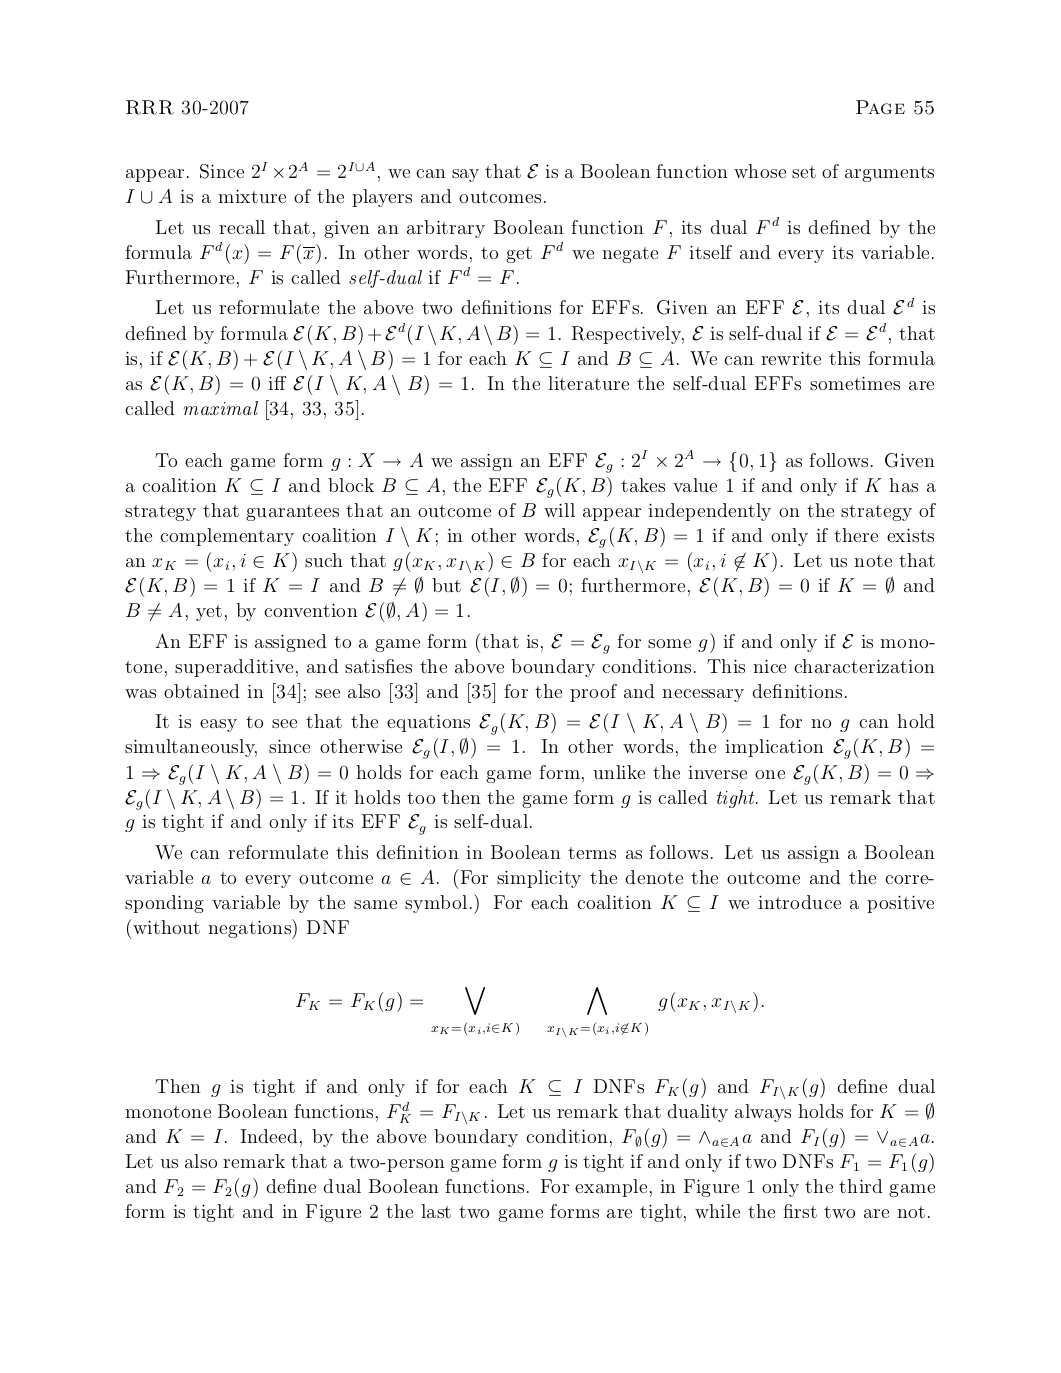formula: (296, 987, 763, 1038)
